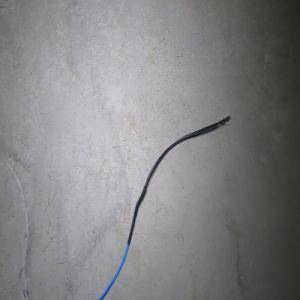Wire: (97, 115, 230, 300)
